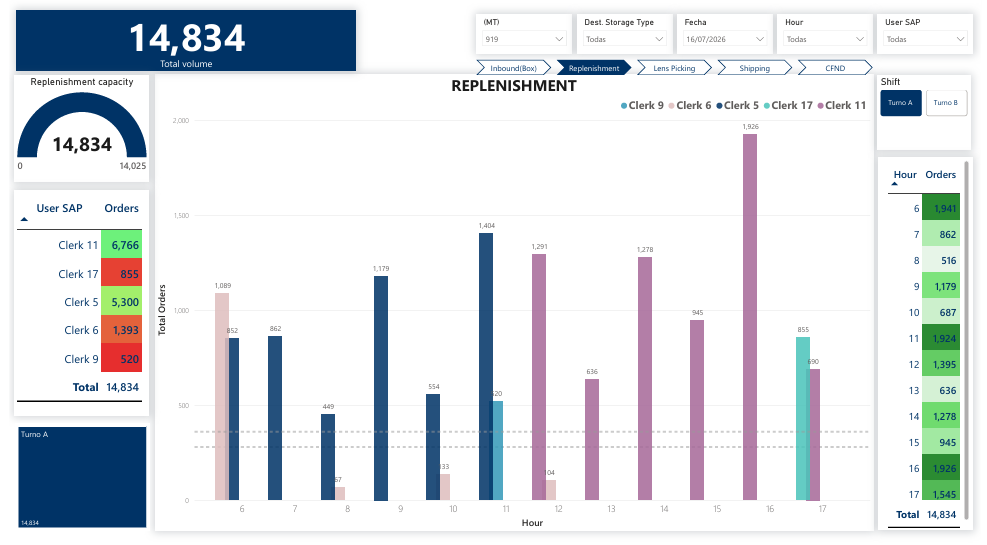

The dashboard page shown, as its layout file describes it:
{"tool":"powerbi","page":{"name":"Replenishment","canvas":[1680,1050],"ordinal":1},"visuals":[{"type":"clusteredColumnChart","title":"REPLENISHMENT","fields":{"Category":["LT24-L.Hora"],"Series":["LT24-L.User"],"Y":["Sum(LT24-L.Source target qty)"]},"box":[252.3,215.5,1241.2,787.6],"z":0},{"type":"advancedSlicerVisual","fields":{"Values":["LT24-L.Turno"]},"box":[1501.9,217.1,161.4,128.6],"z":1000},{"type":"slicer","fields":{"Values":["LT24-L.Movement Type (WM)"]},"box":[808.4,111,165.5,68],"z":2000},{"type":"slicer","fields":{"Values":["LT24-L.Dest. Storage Type"]},"box":[981.8,111,165.5,68],"z":3000},{"type":"slicer","fields":{"Values":["LT24-L.Confirmation Date"]},"box":[1155.2,111,165.5,68],"z":4000},{"type":"slicer","fields":{"Values":["LT24-L.Hora"]},"box":[1328.6,111,165.5,68],"z":5000},{"type":"card","fields":{"Values":["Sum(LT24-L.Source target qty)"]},"box":[12,104,588,104],"z":6000},{"type":"slicer","fields":{"Values":["LT24-L.User"]},"box":[1502.1,111,165.5,68],"z":7000},{"type":"gauge","title":"Replenishment capacity","fields":{"MaxValue":["Sum(Medidor Lens Replenishment.Media Picking)"],"Y":["Sum(LT24-L.Source target qty)"]},"box":[9.4,217.1,232.5,183.8],"z":8000},{"type":"pivotTable","fields":{"Rows":["LT24-L.User"],"Values":["Sum(LT24-L.Source target qty)"]},"box":[9.4,414.6,232.4,389.9],"z":9000},{"type":"treemap","fields":{"Group":["LT24-L.Turno"],"Values":["Sum(LT24-L.Source target qty)"]},"box":[10,818.3,231.7,185],"z":10000},{"type":"pivotTable","fields":{"Rows":["LT24-L.Hora"],"Values":["Sum(LT24-L.Source target qty)"]},"box":[1504.2,358.8,162.9,644.3],"z":11000},{"type":"pageNavigator","title":"1512","box":[808.4,190.4,685.8,26.1],"z":12000},{"type":"textbox","box":[12,0,1656.7,78.3],"z":13000}]}

Visuals, with their boxes on the page's 1680x1050 design canvas (x1, y1, x2, y2). These are canvas units, not pixel positions in the 987x545 screenshot, which may show the page scaled, cropped or inside an application window:
"REPLENISHMENT" clusteredColumnChart: [x1=252, y1=216, x2=1494, y2=1003]
advancedSlicerVisual - LT24-L.Turno: [x1=1502, y1=217, x2=1663, y2=346]
slicer - LT24-L.Movement Type (WM): [x1=808, y1=111, x2=974, y2=179]
slicer - LT24-L.Dest. Storage Type: [x1=982, y1=111, x2=1147, y2=179]
slicer - LT24-L.Confirmation Date: [x1=1155, y1=111, x2=1321, y2=179]
slicer - LT24-L.Hora: [x1=1329, y1=111, x2=1494, y2=179]
card - Sum(LT24-L.Source target qty): [x1=12, y1=104, x2=600, y2=208]
slicer - LT24-L.User: [x1=1502, y1=111, x2=1668, y2=179]
"Replenishment capacity" gauge: [x1=9, y1=217, x2=242, y2=401]
pivotTable - LT24-L.User x Sum(LT24-L.Source target qty): [x1=9, y1=415, x2=242, y2=804]
treemap - LT24-L.Turno x Sum(LT24-L.Source target qty): [x1=10, y1=818, x2=242, y2=1003]
pivotTable - LT24-L.Hora x Sum(LT24-L.Source target qty): [x1=1504, y1=359, x2=1667, y2=1003]
"1512" pageNavigator: [x1=808, y1=190, x2=1494, y2=216]
textbox: [x1=12, y1=0, x2=1669, y2=78]
